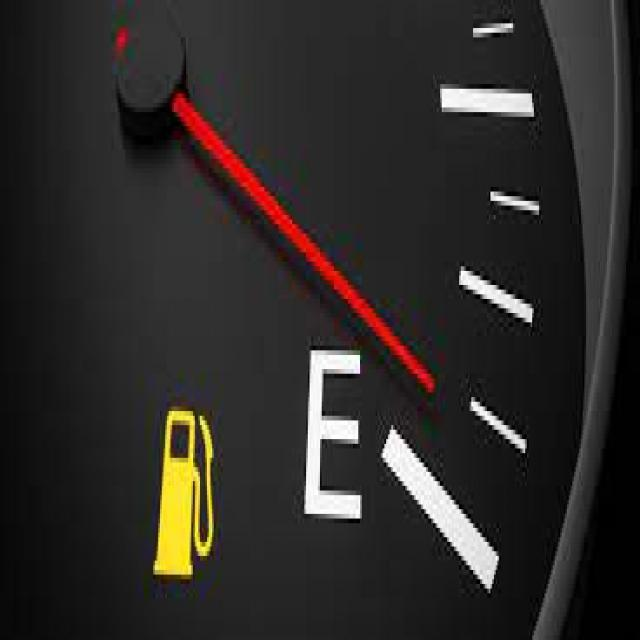LowFuel: (149, 397, 213, 590)
